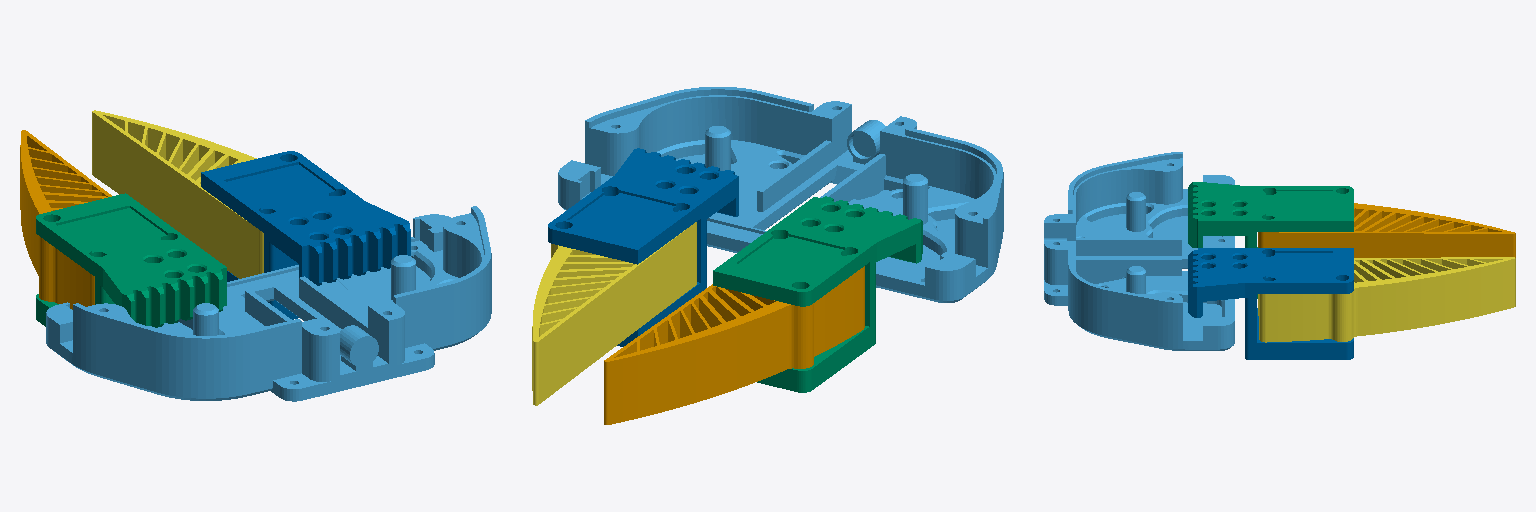
robot.urdf — umi:
<?xml version='1.0' encoding='utf-8'?>
<robot name="umi">
    <link name="finger_left">
        <inertial>
            <origin xyz="-0.012016423344938411 -0.03839192045801355 0.012899999999999997" rpy="0.0 -0.0 0.0" />
            <mass value="0.36952940794766115" />
            <inertia ixx="0.0003954512564658995" iyy="7.243172813426314e-05" izz="0.00042688739208245324" ixy="5.1045526061014625e-05" iyz="-4.607859233063394e-19" ixz="1.6263032587282567e-19" />
        </inertial>
        <visual name="finger_left_visual">
            <origin xyz="0.004918040758548945 0.005080639787092984 0.02580000000000001" rpy="1.5707963267948966 2.4491181566814935e-16 -3.1253317743910176" />
            <geometry>
                <mesh filename="meshes/finger.stl" scale="0.001 0.001 0.001" />
            </geometry>
        </visual>
        <collision name="finger_left_collision">
            <origin xyz="0.004918040758548945 0.005080639787092984 0.02580000000000001" rpy="1.5707963267948966 2.4491181566814935e-16 -3.1253317743910176" />
            <geometry>
                <mesh filename="meshes/finger.stl" scale="0.001 0.001 0.001" />
            </geometry>
        </collision>
    </link>
    <link name="umi_gripper_base">
        <inertial>
            <origin xyz="2.9566202502979635e-16 0.021322863030088245 0.0008420034218669597" rpy="0.0 0.0 0.0" />
            <mass value="0.6942439952702475" />
            <inertia ixx="0.0004843018445897847" iyy="0.0017838941333667316" izz="0.0022060644005269694" ixy="8.660484718441731e-18" iyz="3.0045422040123204e-05" ixz="1.8684701419921104e-18" />
        </inertial>
        <visual name="umi_gripper_base_visual">
            <origin xyz="0.0 0.0 0.0" rpy="0.0 0.0 0.0" />
            <geometry>
                <mesh filename="meshes/umi_gripper_base.stl" scale="0.001 0.001 0.001" />
            </geometry>
        </visual>
        <collision name="umi_gripper_base_collision">
            <origin xyz="0.0 0.0 0.0" rpy="0.0 0.0 0.0" />
            <geometry>
                <mesh filename="meshes/umi_gripper_base.stl" scale="0.001 0.001 0.001" />
            </geometry>
        </collision>
    </link>
    <link name="holder_left">
        <inertial>
            <origin xyz="0.021891297537735364 -0.006761244624464051 -0.034142374616543306" rpy="0.0 -0.0 0.0" />
            <mass value="0.33383812794148165" />
            <inertia ixx="0.00023010592795290156" iyy="0.00019973119028323305" izz="0.0001240801659385391" ixy="2.3823747006571514e-06" iyz="-3.84712583951246e-05" ixz="7.111662559233572e-06" />
        </inertial>
        <visual name="holder_left_visual">
            <origin xyz="0.0822375825974722 -0.004800000000000007 0.050800000000000005" rpy="-1.5707963267948966 -6.123233995736766e-17 3.141592653589793" />
            <geometry>
                <mesh filename="meshes/holder_left.stl" scale="0.001 0.001 0.001" />
            </geometry>
        </visual>
        <collision name="holder_left_collision">
            <origin xyz="0.0822375825974722 -0.004800000000000007 0.050800000000000005" rpy="-1.5707963267948966 -6.123233995736766e-17 3.141592653589793" />
            <geometry>
                <mesh filename="meshes/holder_left.stl" scale="0.001 0.001 0.001" />
            </geometry>
        </collision>
    </link>
    <link name="finger_right">
        <inertial>
            <origin xyz="0.012016423344938394 -0.03839192045801355 0.012900000000000014" rpy="0.0 -0.0 0.0" />
            <mass value="0.36952940794766115" />
            <inertia ixx="0.00039545125646590126" iyy="7.243172813426379e-05" izz="0.0004268873920824515" ixy="-5.1045526061014625e-05" iyz="3.9302328752599536e-19" ixz="1.5585406229479126e-19" />
        </inertial>
        <visual name="finger_right_visual">
            <origin xyz="-0.004918040758548998 0.005080639787093011 4.440892098500626e-18" rpy="-1.5707963267948966 -1.224484895962982e-16 -0.016260879198775148" />
            <geometry>
                <mesh filename="meshes/finger.stl" scale="0.001 0.001 0.001" />
            </geometry>
        </visual>
        <collision name="finger_right_collision">
            <origin xyz="-0.004918040758548998 0.005080639787093011 4.440892098500626e-18" rpy="-1.5707963267948966 -1.224484895962982e-16 -0.016260879198775148" />
            <geometry>
                <mesh filename="meshes/finger.stl" scale="0.001 0.001 0.001" />
            </geometry>
        </collision>
    </link>
    <link name="holder_right">
        <inertial>
            <origin xyz="-0.021891297537707227 -0.005761244624464055 -0.03414237461654342" rpy="0.0 -0.0 0.0" />
            <mass value="0.3338381279414784" />
            <inertia ixx="0.0002301059280037628" iyy="0.0001997311903110051" izz="0.00012408016591544495" ixy="-2.3823747006497043e-06" iyz="-3.84712583951225e-05" ixz="-7.111662559663133e-06" />
        </inertial>
        <visual name="holder_right_visual">
            <origin xyz="-0.0822375825974722 -0.0038 0.05079999999999999" rpy="-1.5707963267948966 6.123233995736766e-17 1.405799628556214e-65" />
            <geometry>
                <mesh filename="meshes/holder_right.stl" scale="0.001 0.001 0.001" />
            </geometry>
        </visual>
        <collision name="holder_right_collision">
            <origin xyz="-0.0822375825974722 -0.0038 0.05079999999999999" rpy="-1.5707963267948966 6.123233995736766e-17 1.405799628556214e-65" />
            <geometry>
                <mesh filename="meshes/holder_right.stl" scale="0.001 0.001 0.001" />
            </geometry>
        </collision>
    </link>
    <joint name="joint_right" type="prismatic">
        <origin xyz="0.0797 0.0518 0.0038" rpy="1.5707963267948966 -0.0 0.0" />
        <parent link="umi_gripper_base" />
        <child link="holder_right" />
        <axis xyz="1.0 0.0 0.0" />
        <limit lower="-0.038" upper="-0.005" effort="1000000" velocity="1000000" />
    </joint>
    <joint name="joint_left" type="prismatic">
        <origin xyz="-0.0797 0.0518 0.0038" rpy="1.5707963267948966 -0.0 0.0" />
        <parent link="umi_gripper_base" />
        <child link="holder_left" />
        <axis xyz="1.0 0.0 0.0" />
        <limit lower="0.005" upper="0.038" effort="1000000" velocity="1000000" />
    </joint>
    <joint name="joint_finger_right" type="revolute">
        <origin xyz="-0.03723758 0.006900000000000001 -0.0317" rpy="1.5707963267948966 5.270904363473968e-98 0.0" />
        <parent link="holder_right" />
        <child link="finger_right" />
        <axis xyz="0.0 -0.0 1.0" />
        <limit lower="-1.570796" upper="1.570796" effort="1000000" velocity="1000000" />
    </joint>
    <joint name="joint_finger_left" type="revolute">
        <origin xyz="0.03723758 0.0059 -0.0317" rpy="1.5707963267948966 -1.3198670974147539e-49 0.0" />
        <parent link="holder_left" />
        <child link="finger_left" />
        <axis xyz="0.0 6.842277657836021e-49 -1.0" />
        <limit lower="-1.570796" upper="1.570796" effort="1000000" velocity="1000000" />
    </joint>
    
</robot>

--- What the picture shows (computed from the rendered views, not written in the file) ---
Views: 3 orthographic renders of the robot side by side, from view 1: azimuth 30°, elevation 25°; view 2: azimuth 150°, elevation 25°; view 3: azimuth 270°, elevation 25°.
Robot: umi — 5 links, 4 joints (2 revolute, 2 prismatic); root link umi_gripper_base; default pose: joints at zero except 2 at the middle of their limits (joint_right = -0.0215, joint_left = 0.0215).
Visible links, largest first — view 1: umi_gripper_base, holder_right, holder_left, finger_right, finger_left; view 2: umi_gripper_base, finger_left, holder_left, finger_right, holder_right; view 3: umi_gripper_base, finger_right, holder_right, holder_left, finger_left.
Boxes of the visible links, x1=… form: umi_gripper_base: x1=46, y1=206, x2=491, y2=401; holder_right: x1=201, y1=151, x2=410, y2=319; holder_left: x1=36, y1=193, x2=226, y2=327; finger_right: x1=92, y1=110, x2=263, y2=278; finger_left: x1=20, y1=130, x2=111, y2=309; umi_gripper_base: x1=558, y1=87, x2=1003, y2=302; finger_left: x1=604, y1=266, x2=864, y2=424; holder_left: x1=713, y1=196, x2=922, y2=392; finger_right: x1=532, y1=222, x2=696, y2=405; holder_right: x1=548, y1=148, x2=738, y2=346; umi_gripper_base: x1=1044, y1=152, x2=1234, y2=350; finger_right: x1=1258, y1=257, x2=1515, y2=342; holder_right: x1=1188, y1=248, x2=1353, y2=359; holder_left: x1=1188, y1=182, x2=1353, y2=298; finger_left: x1=1258, y1=203, x2=1515, y2=257.
Bounding box of the posed robot: 0.172 × 0.2258 × 0.0452 m (x, y, z).
5 mesh visuals loaded from 4 distinct referenced files (4 binary STL).